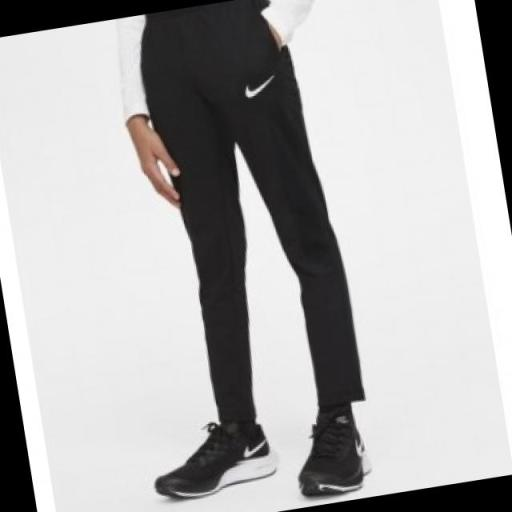Nike: (236, 72, 278, 103)
